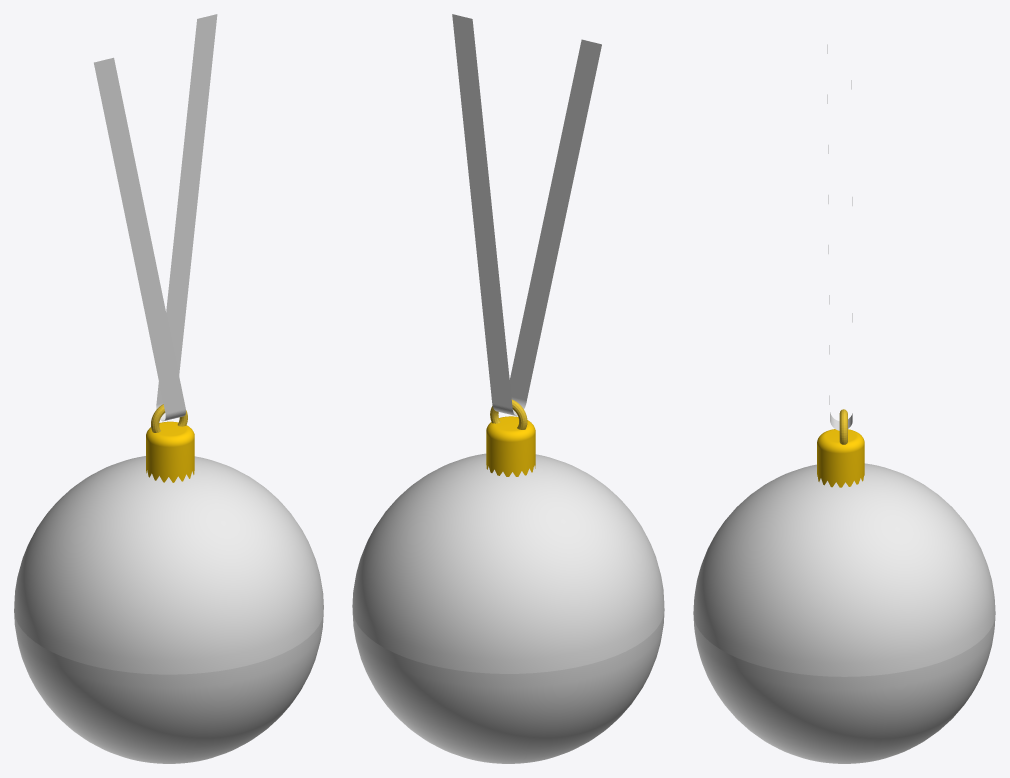
The model's file is ornamentgacha.fbx.
3 views of the same model, side by side, from view 1: azimuth 30°, elevation 25°; view 2: azimuth 150°, elevation 25°; view 3: azimuth 270°, elevation 25° (orthographic). The views are drawn at different scales.
Parts seen in each view (by area): view 1: Sphere.001, Sphere, Plane, Cylinder; view 2: Sphere.001, Sphere, Plane, Cylinder; view 3: Sphere.001, Sphere, Cylinder.
Boxes of the visible parts, x1=… form: Sphere.001: x1=14, y1=456, x2=323, y2=674; Sphere: x1=14, y1=612, x2=323, y2=763; Plane: x1=94, y1=14, x2=217, y2=421; Cylinder: x1=146, y1=421, x2=194, y2=482; Sphere.001: x1=352, y1=453, x2=664, y2=673; Sphere: x1=352, y1=612, x2=664, y2=763; Plane: x1=452, y1=14, x2=601, y2=416; Cylinder: x1=486, y1=416, x2=535, y2=476; Sphere.001: x1=693, y1=463, x2=995, y2=676; Sphere: x1=693, y1=614, x2=995, y2=763; Cylinder: x1=817, y1=429, x2=864, y2=487.
Size of the model in its own units: 200 by 513 by 200.
